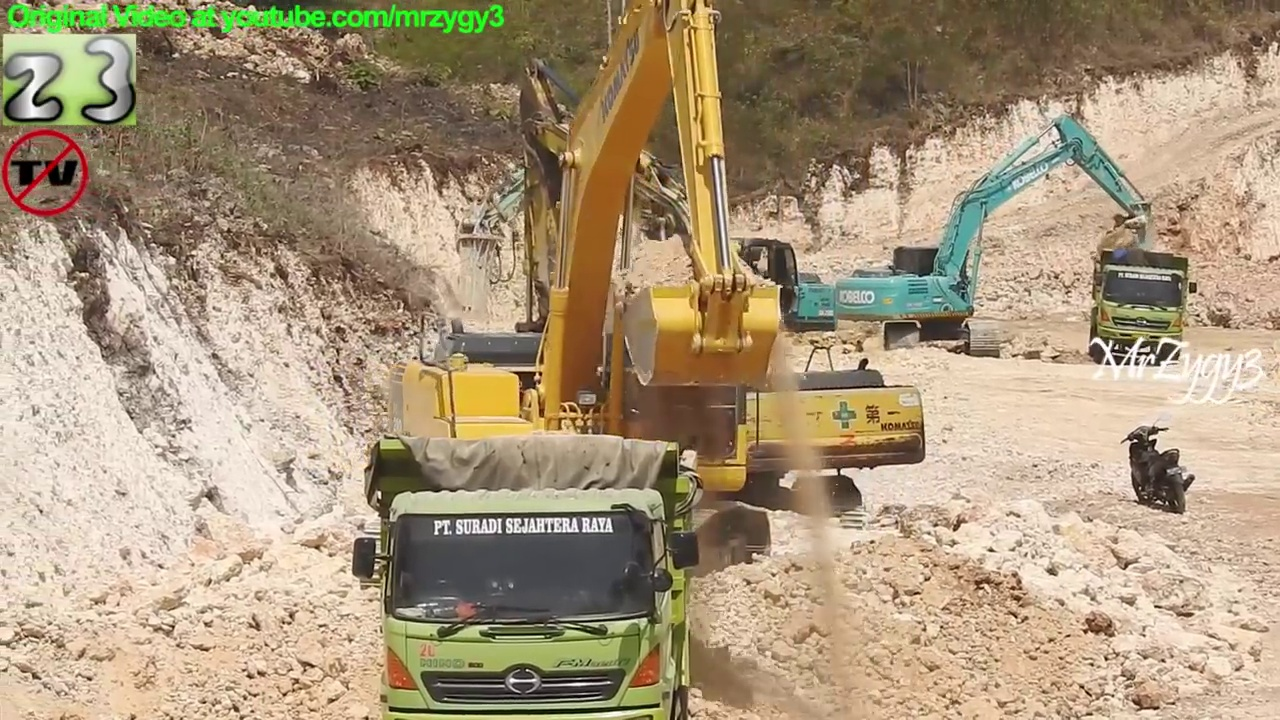excavator: (350, 1, 791, 602), (503, 48, 936, 544), (446, 123, 846, 383), (827, 107, 1174, 364)
truck: (350, 430, 709, 720), (1084, 240, 1202, 371)
